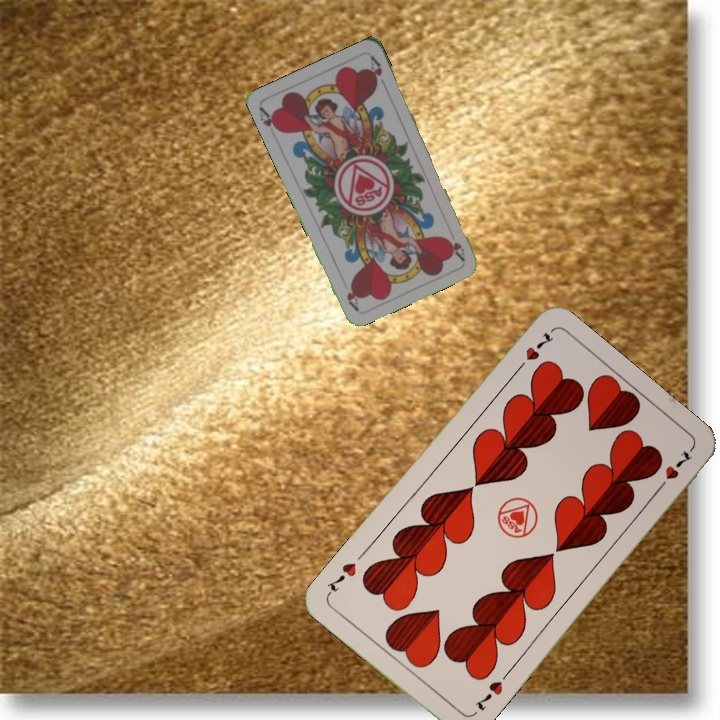H7: (511, 327, 557, 376), (470, 677, 506, 713)
HA: (255, 103, 284, 136), (445, 224, 468, 263)
